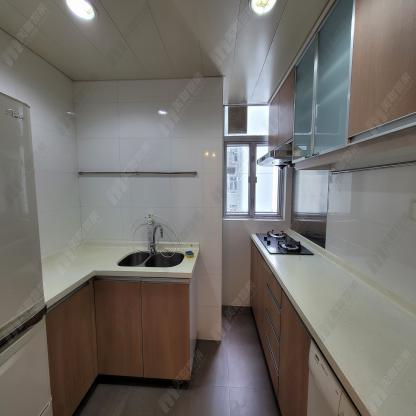Cupboard: (268, 0, 414, 165), (293, 0, 416, 163), (49, 279, 191, 416), (251, 240, 313, 416)
Exhaust Fan: (228, 106, 248, 134)
Exhaust Hood: (257, 143, 292, 171), (257, 144, 292, 168)
Faucet: (149, 220, 164, 254)
Fridge: (0, 94, 53, 416)
Sink: (101, 247, 190, 272), (117, 249, 185, 267)
Stove: (249, 230, 329, 260), (255, 229, 312, 256)
